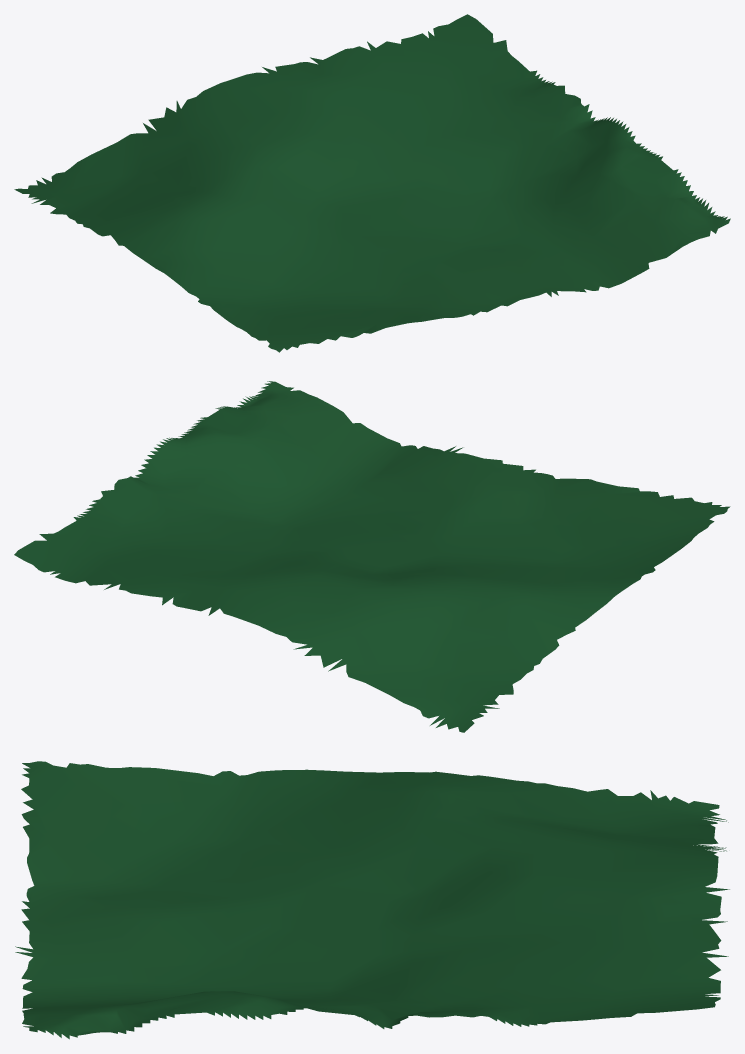
Rendered from payo_land_x2_y3_lod2.glb.
The picture shows the model from 3 angles, top to bottom: view 1: azimuth 30°, elevation 25°; view 2: azimuth 150°, elevation 25°; view 3: azimuth 270°, elevation 25°; orthographic projection. The views are drawn at different scales.
Parts seen in each view (by area): view 1: payo_land_x2_y3; view 2: payo_land_x2_y3; view 3: payo_land_x2_y3.
Boxes of the visible parts, box(x1,y1,x2,y2) form: payo_land_x2_y3: box(14, 14, 730, 352); payo_land_x2_y3: box(14, 381, 730, 732); payo_land_x2_y3: box(15, 761, 729, 1039).
Bounding box in the file's own units: 264 × 36.86 × 267.
